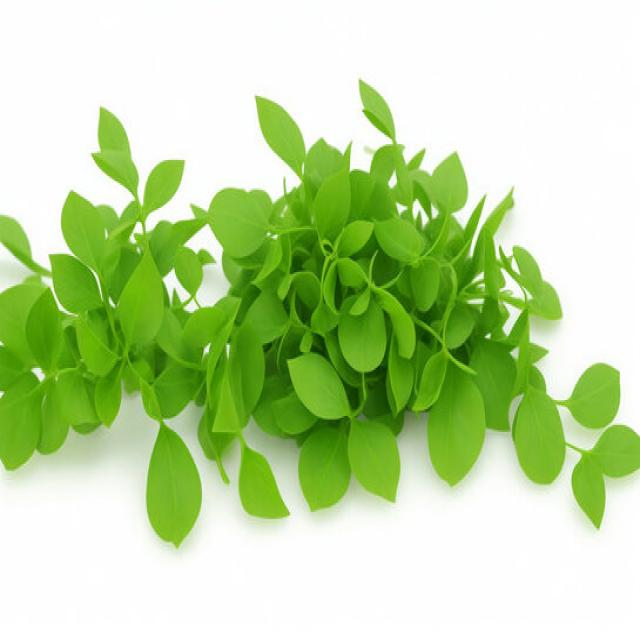Fenugreek: (0, 77, 638, 550)
